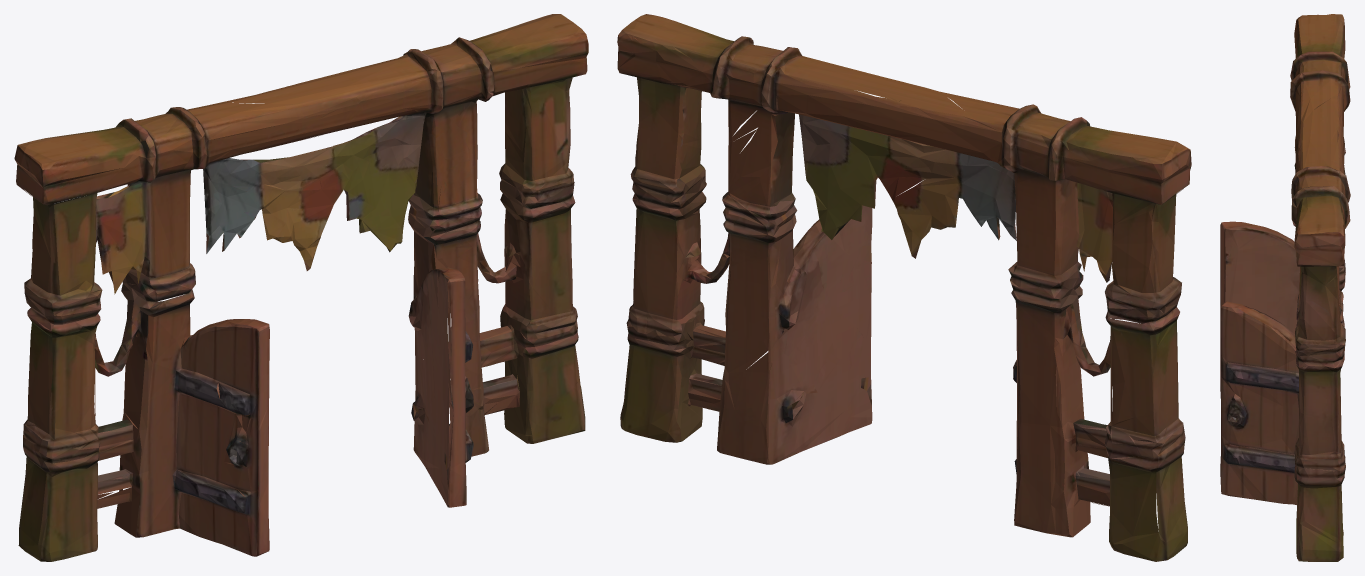
The model's file is gate_west.glb.
The picture shows the model from 3 angles, left to right: view 1: azimuth 30°, elevation 25°; view 2: azimuth 150°, elevation 25°; view 3: azimuth 270°, elevation 25°; orthographic projection. The views are drawn at different scales.
Visible parts, largest first — view 1: geometry_0; view 2: geometry_0; view 3: geometry_0.
Boxes of the visible parts, <box> form: geometry_0: <box>14,14,588,561</box>; geometry_0: <box>617,14,1191,561</box>; geometry_0: <box>1220,14,1350,561</box>.
Size of the model in its own units: 3.2 by 2.26 by 0.7999.
1 material, 1 textured.
